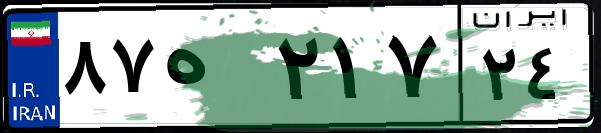1: (330, 28, 385, 110)
2: (270, 28, 330, 110), (475, 38, 525, 113)
4: (525, 38, 570, 115)
7: (385, 28, 445, 110), (110, 28, 158, 98)
8: (57, 26, 110, 100)
ه: (158, 20, 270, 120)
